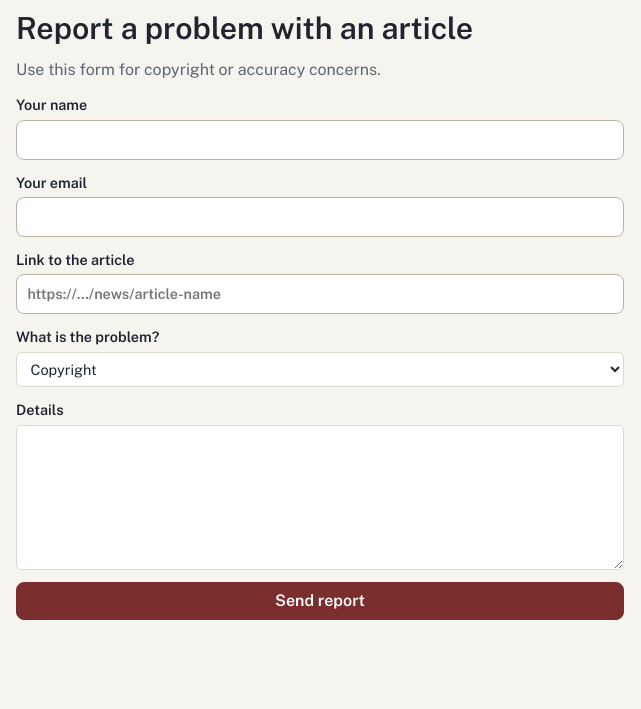
Test: Report a problem › shows the server's problem and keeps what was typed
This screenshot has width=641, height=709.
Type "Pat" into the field labelled "Your name" at {"x": 320, "y": 140}, box x1=16 y1=120 x2=624 y2=160
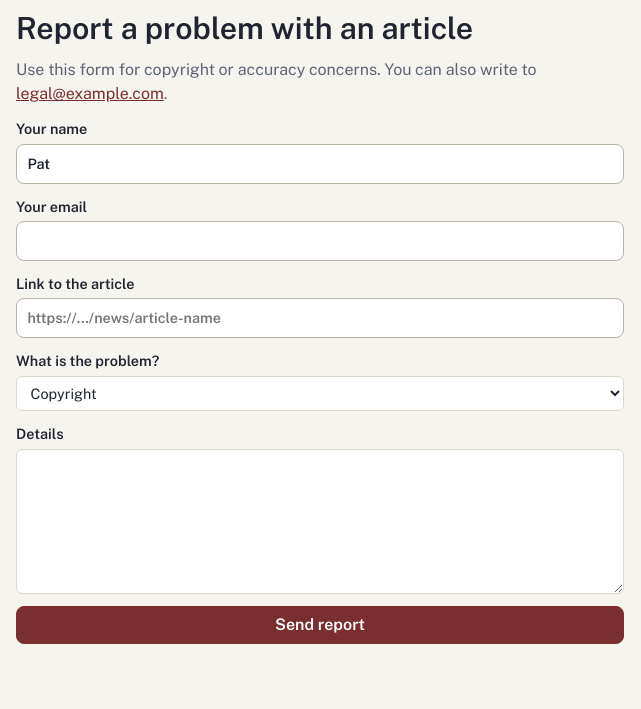
Type "pat@example.com" into the field labelled "Your email" at {"x": 320, "y": 241}, box x1=16 y1=221 x2=624 y2=261
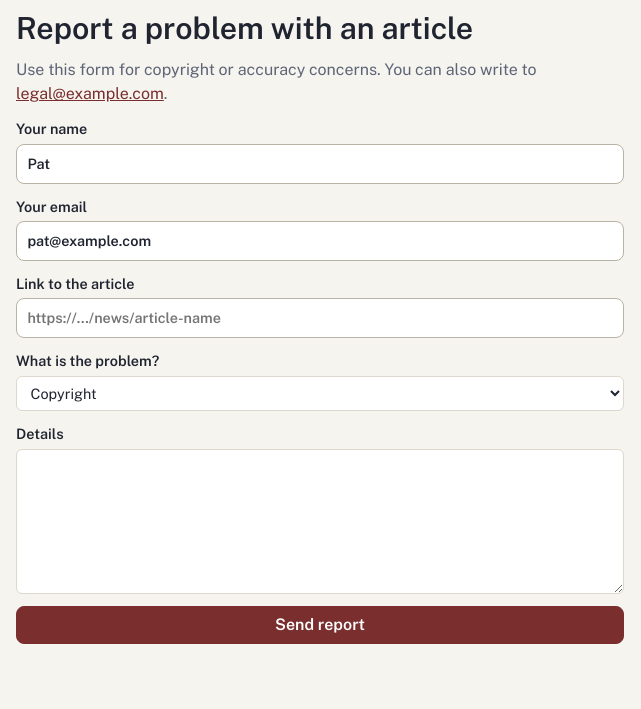
Type "https://site.example/news/bridge-vote" into the field labelled "Link to the article" at {"x": 320, "y": 318}, box x1=16 y1=298 x2=624 y2=338
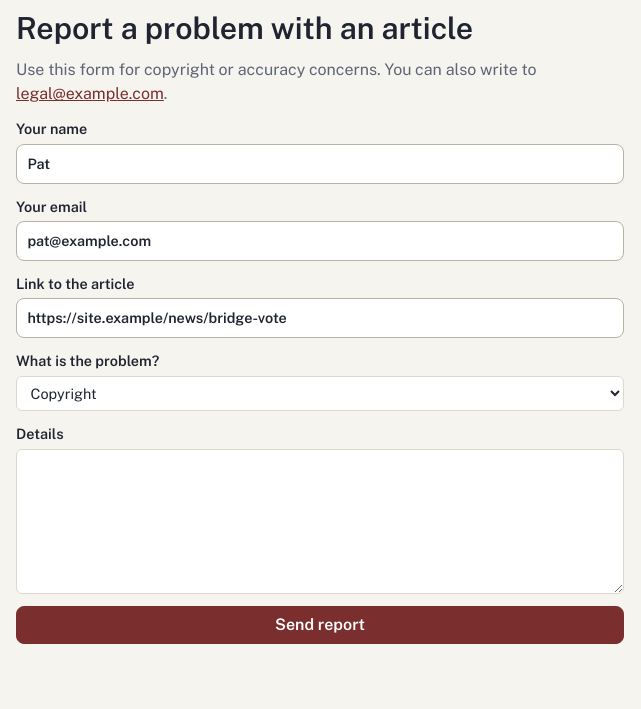
Type "This copies my article without permission." into the text box labelled "Details" at {"x": 320, "y": 522}, box x1=16 y1=449 x2=624 y2=594
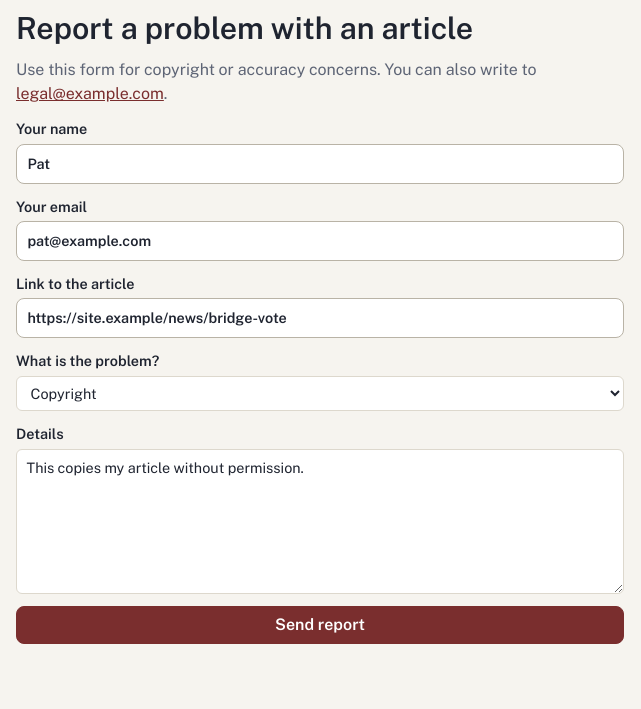
Click the button "Send report" at {"x": 320, "y": 625}, box x1=16 y1=606 x2=624 y2=644
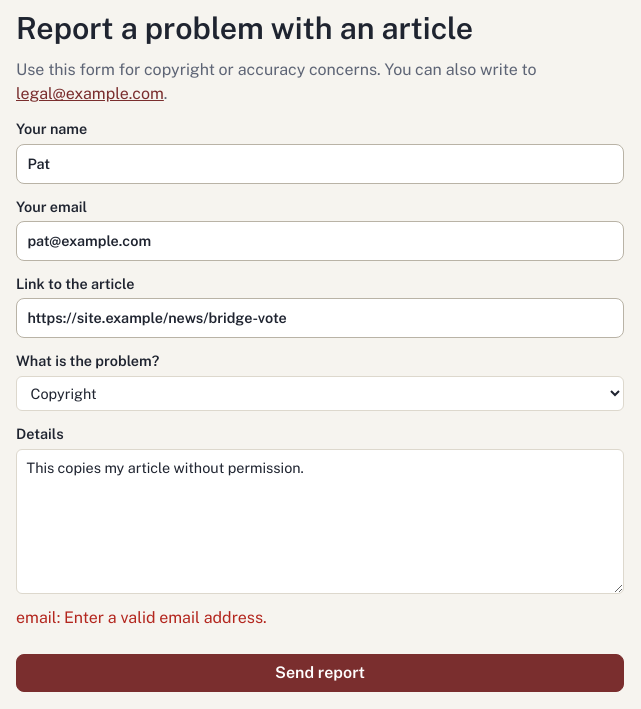
Result: the message shows "Enter a valid email address." at x1=16 y1=608 x2=267 y2=628
